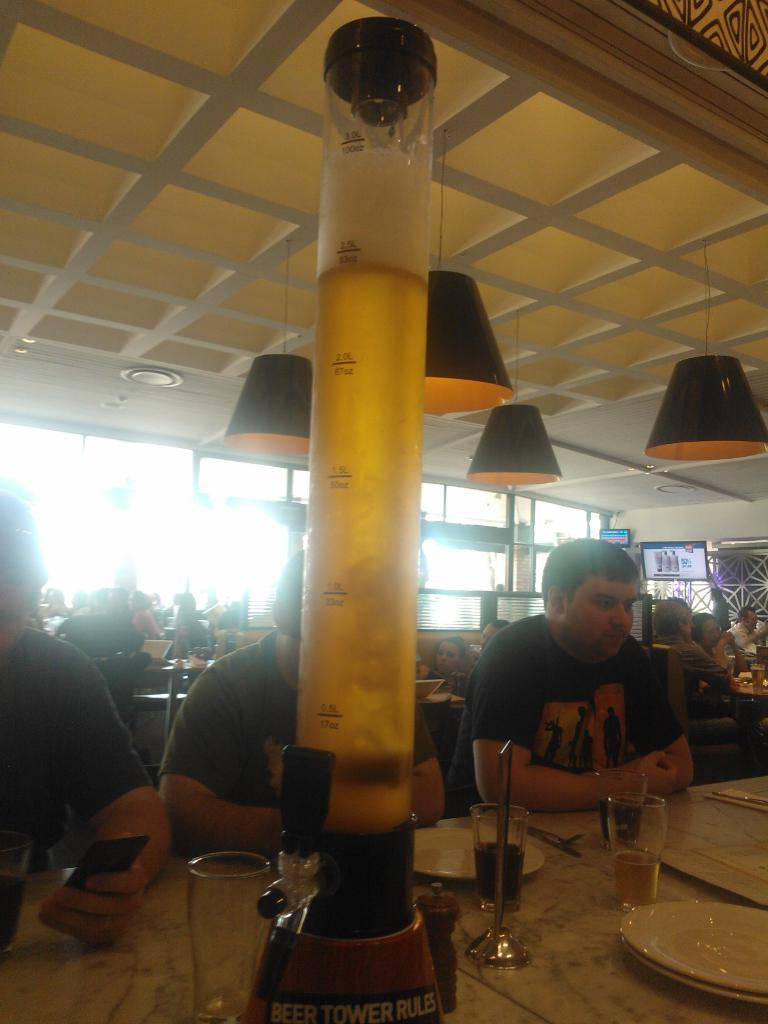Beer: (167, 840, 265, 1023), (461, 796, 533, 970), (603, 793, 678, 926)
